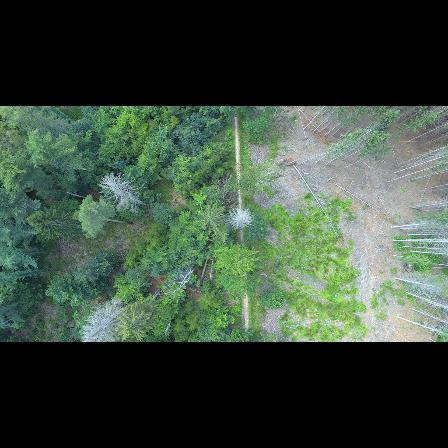Dead: (77, 292, 133, 343), (98, 173, 148, 217), (227, 204, 256, 232)
